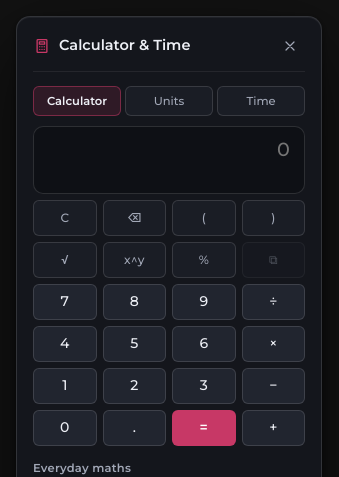
Test: Calc & Time: calculator behaviour › previews a result live as the expression is typed
This screenshot has width=339, height=477.
Click the button with class "ct-key" showing "1".
click(65, 386)  # box [33,368,96,404]
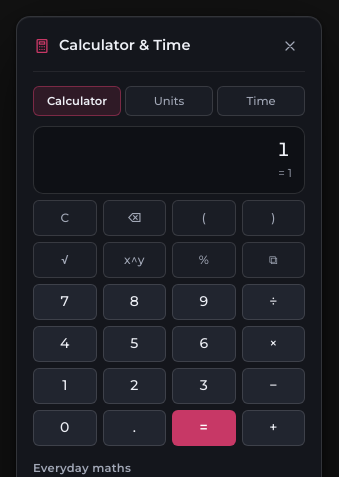
Click the button with class "ct-key" showing "2".
click(134, 386)  # box [102,368,166,404]
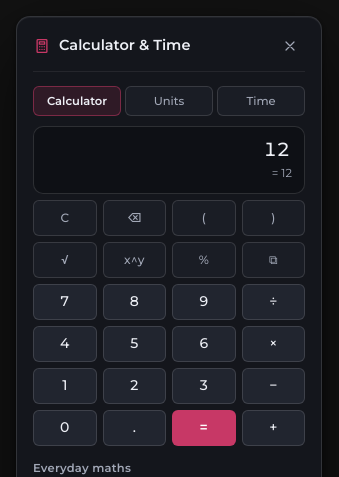
Click the button with class "ct-key" showing "×".
click(273, 344)  # box [242,326,305,362]
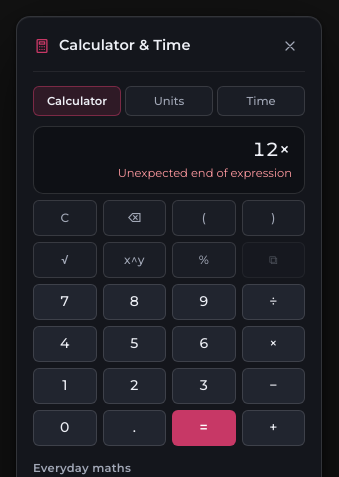
Click the button with class "ct-key" showing "4".
click(65, 344)  # box [33,326,96,362]
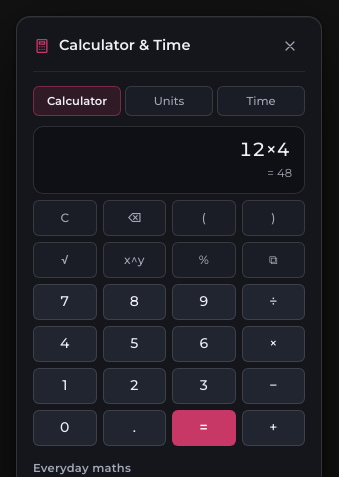
Check: the text with class "ct-preview" reads "= 48", box [267,166,292,180]
